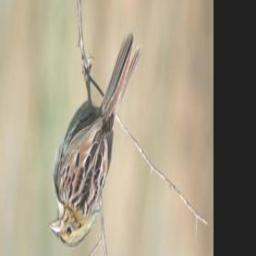Sparrow: (47, 28, 144, 251)
